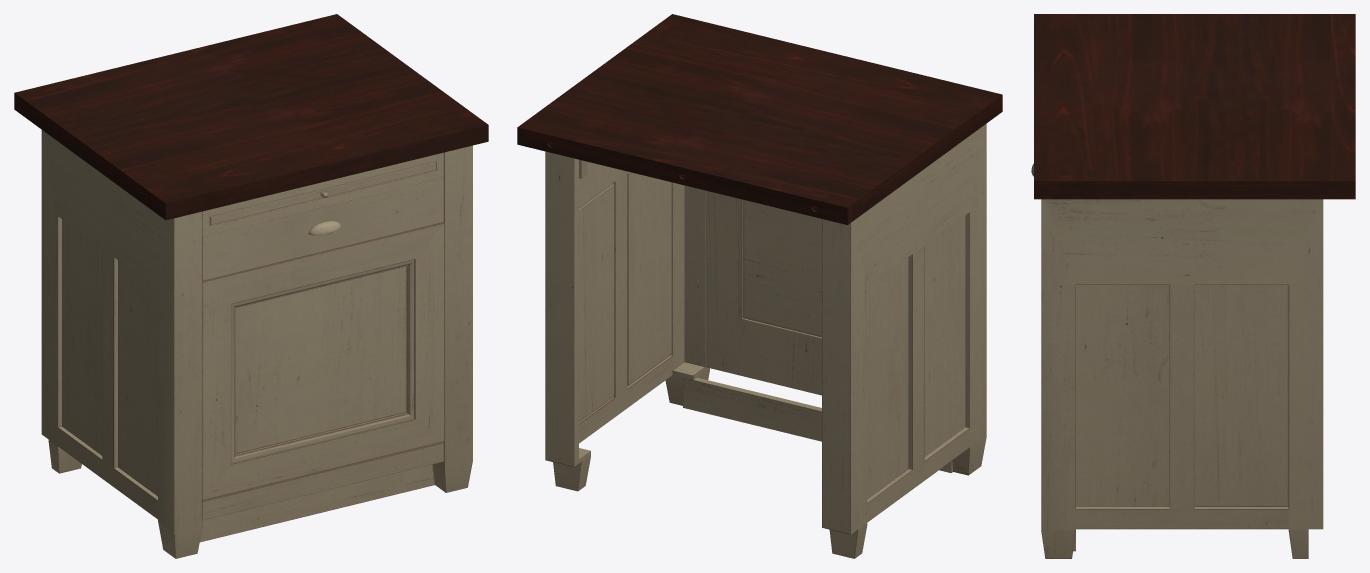
File: example60.glb
The picture shows the model from 3 angles, left to right: view 1: azimuth 30°, elevation 25°; view 2: azimuth 150°, elevation 25°; view 3: azimuth 270°, elevation 25°; orthographic projection. The views are drawn at different scales.
Visible parts, largest first — view 1: Buffer Layer (×2); view 2: Buffer Layer (×2); view 3: Buffer Layer (×2).
Part boxes in pixels (x1,y1,x2,y2): Buffer Layer (×2): (14, 14, 488, 558); Buffer Layer (×2): (517, 14, 1002, 558); Buffer Layer (×2): (1031, 14, 1355, 558).
Bounding box in the file's own units: 0.75 × 0.8063 × 0.6141.
2 materials, 2 textured.
